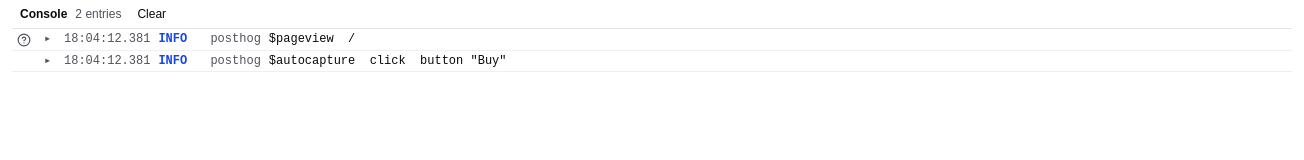
Test: ConsoleEntryList › help column › shows the help text on hover
The image size is (1304, 160).
Hover over the button named "About $pageview" at x=24, y=40, box [14,30,34,50]
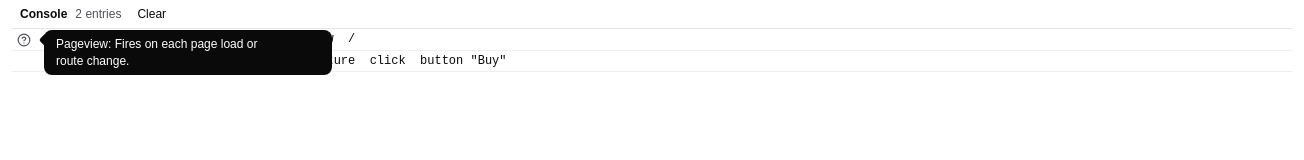
Expected: the tooltip reads "Pageview: Fires on each page load or route change.", [56,37,258,68]
